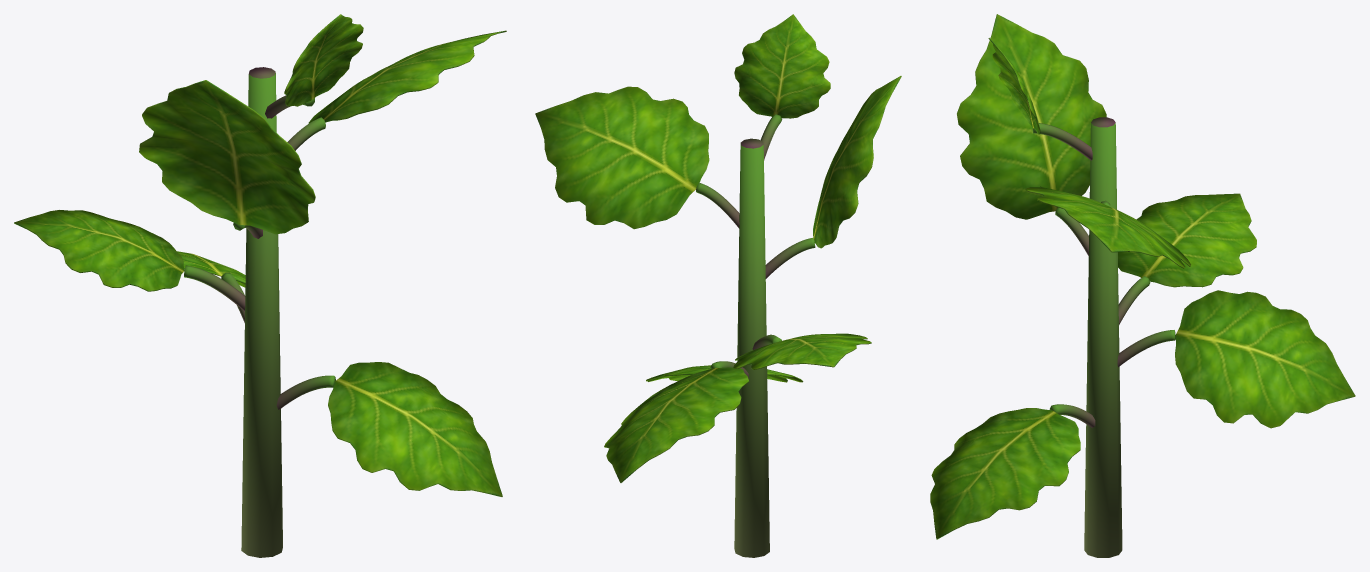
Rendered from NP_Eggplant_Young.fbx.
3 views of the same model, side by side, from view 1: azimuth 30°, elevation 25°; view 2: azimuth 150°, elevation 25°; view 3: azimuth 270°, elevation 25° (orthographic). The views are drawn at different scales.
Visible parts, largest first — view 1: NP_Eggplant_Young; view 2: NP_Eggplant_Young; view 3: NP_Eggplant_Young.
Part boxes in pixels (left/top/right/bottom): NP_Eggplant_Young: left=14, top=14, right=506, bottom=557; NP_Eggplant_Young: left=535, top=14, right=901, bottom=557; NP_Eggplant_Young: left=930, top=14, right=1355, bottom=557.
Bounding box in the file's own units: 54.84 × 71.86 × 53.38.
